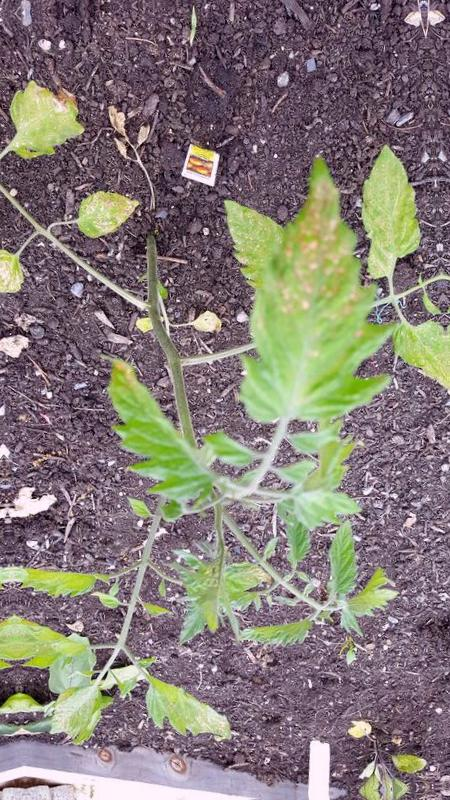Tomato leaf bacterial spot: (218, 148, 384, 459), (93, 350, 225, 512), (138, 659, 239, 752), (53, 668, 122, 749)
